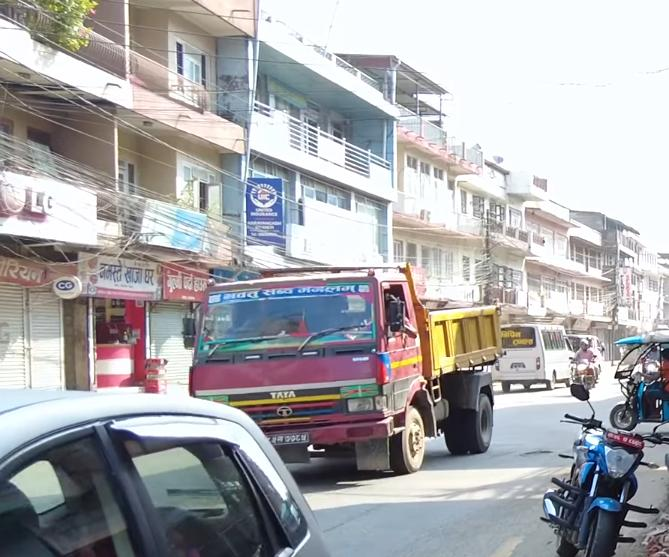bike: (558, 380, 658, 557), (565, 343, 601, 404)
bus: (491, 309, 571, 390)
car: (0, 372, 323, 557)
e-rickshaw: (597, 328, 669, 439)
mini_truck: (185, 263, 507, 488)
